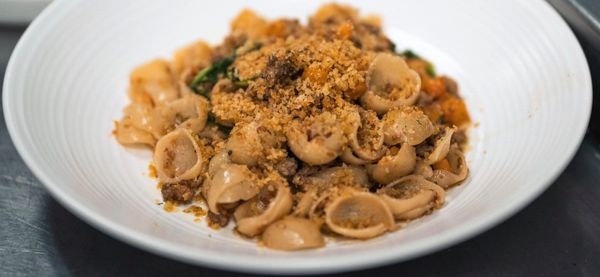sushi: (3, 0, 588, 269)
